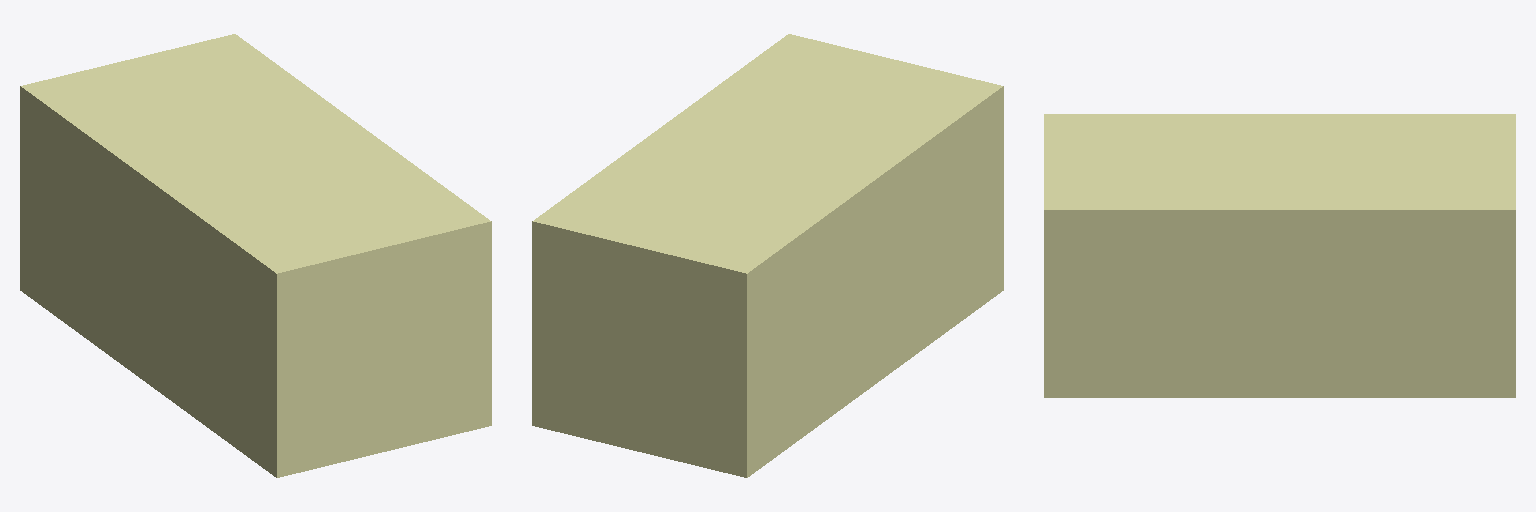
The robot description file, URDF, robot "box.urdf":
<?xml version="1.0" ?>
<robot name="box.urdf">
  <link name="baseLink">
    <contact>
      <lateral_friction value="1.0"/>
      <rolling_friction value="0.0001"/>
      <inertia_scaling value="3.0"/>
    </contact>
    <inertial>
      <origin rpy="0 0 0" xyz="0 0 0"/>
       <mass value="0.1"/>
       <inertia ixx="1" ixy="0" ixz="0" iyy="1" iyz="0" izz="1"/>
    </inertial>
    <visual>
      <origin rpy="0 0 0" xyz="0 0 0"/>
      <geometry>
        <!-- <box size="0.223 0.461 0.203"/> -->
        <mesh filename="box/box.obj" scale="0.223 0.461 0.203"/>
      </geometry>
      <material name="white">
        <color rgba="0.9 0.9 0.7 1"/>
      </material>
    </visual>
    <collision>
      <origin rpy="0 0 0" xyz="0 0 0"/>
      <geometry>
        <mesh filename="box/box.obj" scale="0.223 0.461 0.203"/>
	 	    <!-- <box size="0.223 0.461 0.203"/> -->
      </geometry>
    </collision>
  </link>
</robot>

--- Render facts (derived) ---
The picture shows the robot from 3 angles, left to right: view 1: azimuth 30°, elevation 25°; view 2: azimuth 150°, elevation 25°; view 3: azimuth 270°, elevation 25°; orthographic projection.
Model box.urdf with 1 links and 0 joints (none), rooted at baseLink, posed every joint at zero.
Links seen in each view (by area): view 1: baseLink; view 2: baseLink; view 3: baseLink.
Link boxes in pixels (x1,y1,x2,y2): baseLink: (20, 34, 491, 477); baseLink: (532, 34, 1003, 477); baseLink: (1044, 114, 1515, 397).
Bounding box of the posed robot: 0.223 × 0.461 × 0.203 m (x, y, z).
Meshes: 1 distinct files referenced, 1 mesh visuals loaded (1 OBJ).
